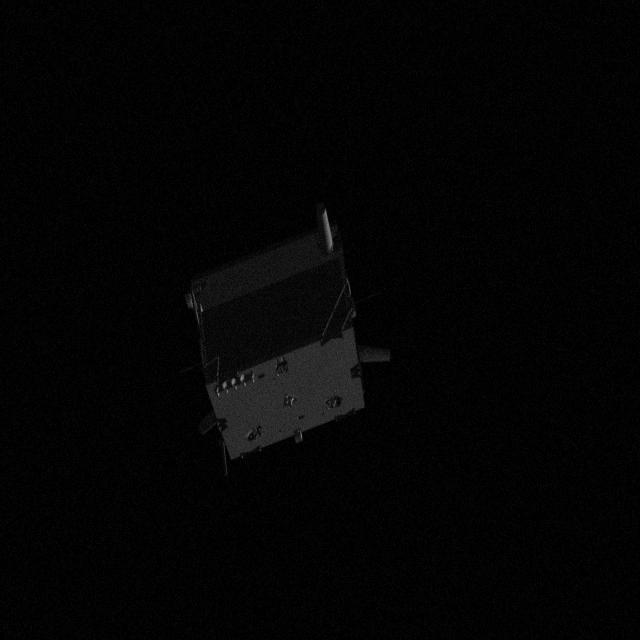satellite: (188, 204, 392, 470)
